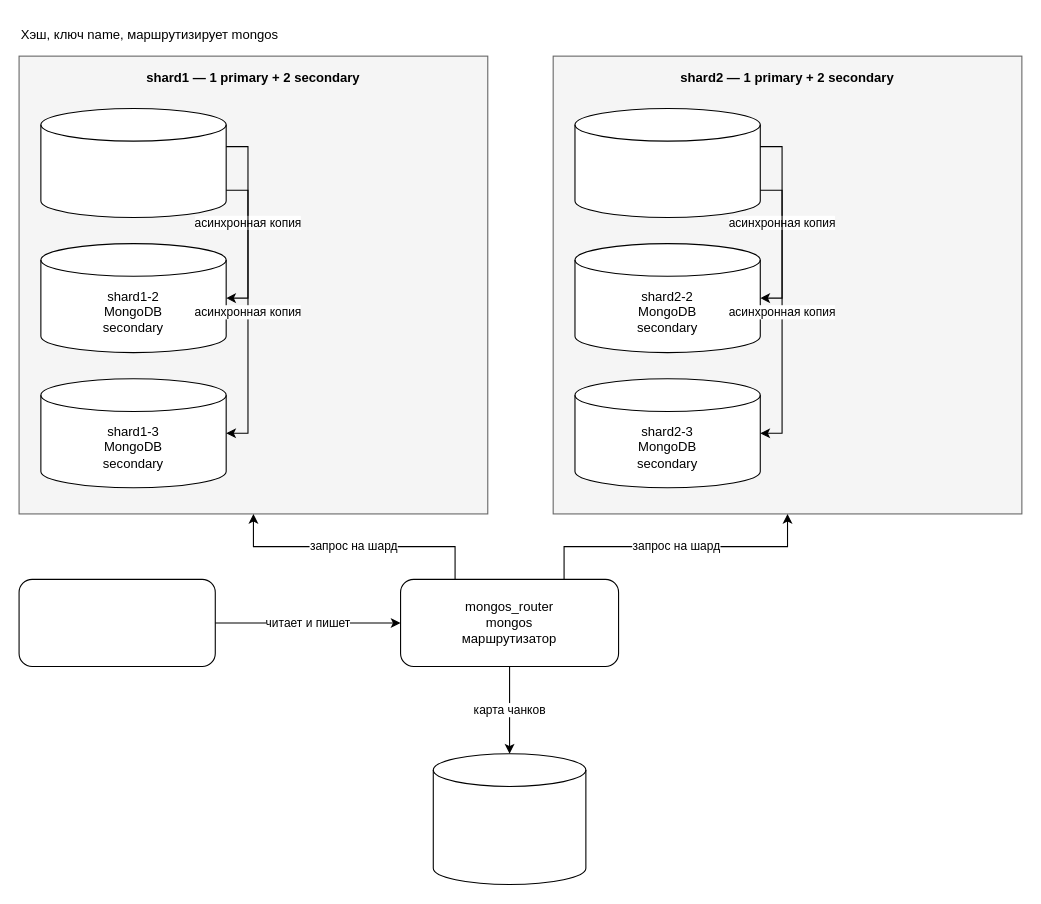
Image size: 1041x904. Some labels were removed from this diagram. The shapes that lost their labels are listed below. From the top down, each one's centre as x and y in pixels, then its label:
At point 133,162: "shard1-1 MongoDB primary".
At point 667,162: "shard2-1 MongoDB primary".
At point 116,622: "pymongo-api FastAPI :8080 инстанс приложения".
At point 509,819: "configSrv MongoDB один узел".
